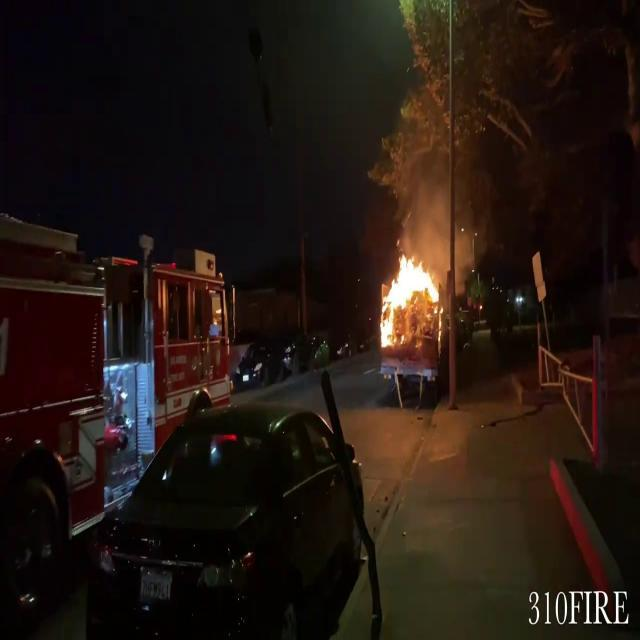Fire: (376, 246, 444, 355)
Smoke: (409, 123, 483, 272)
